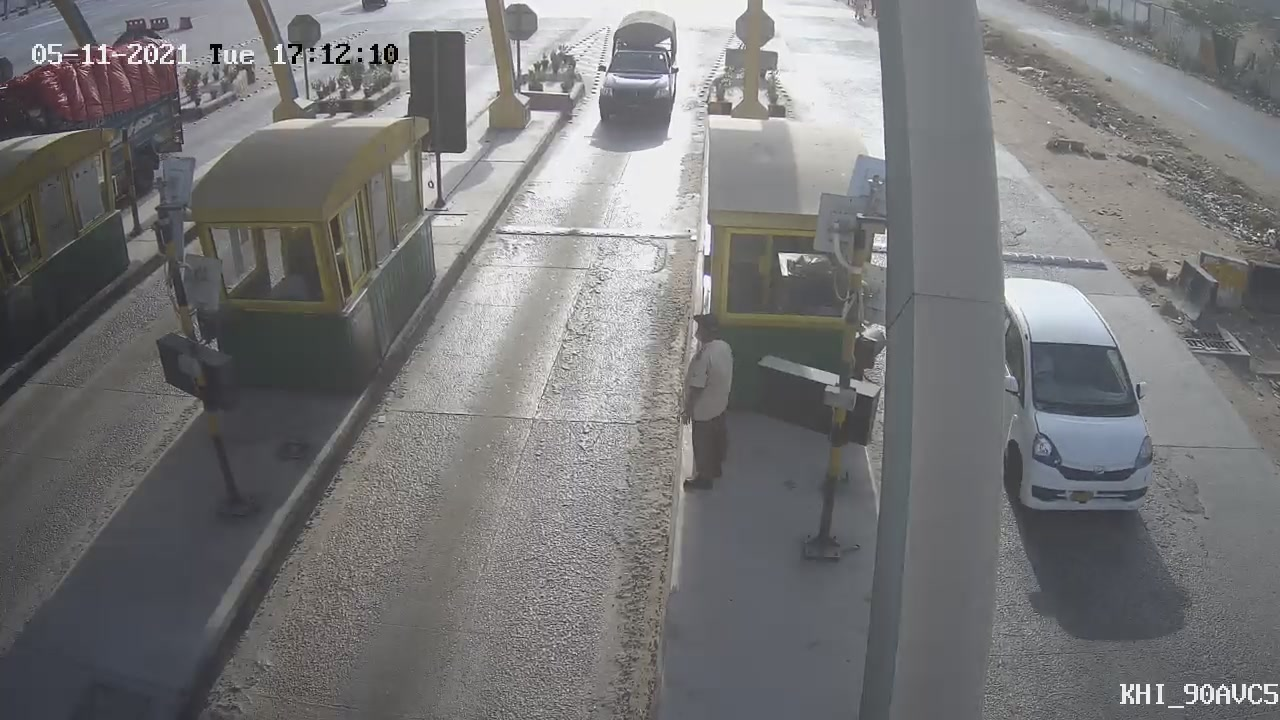F1: (587, 5, 692, 142)
